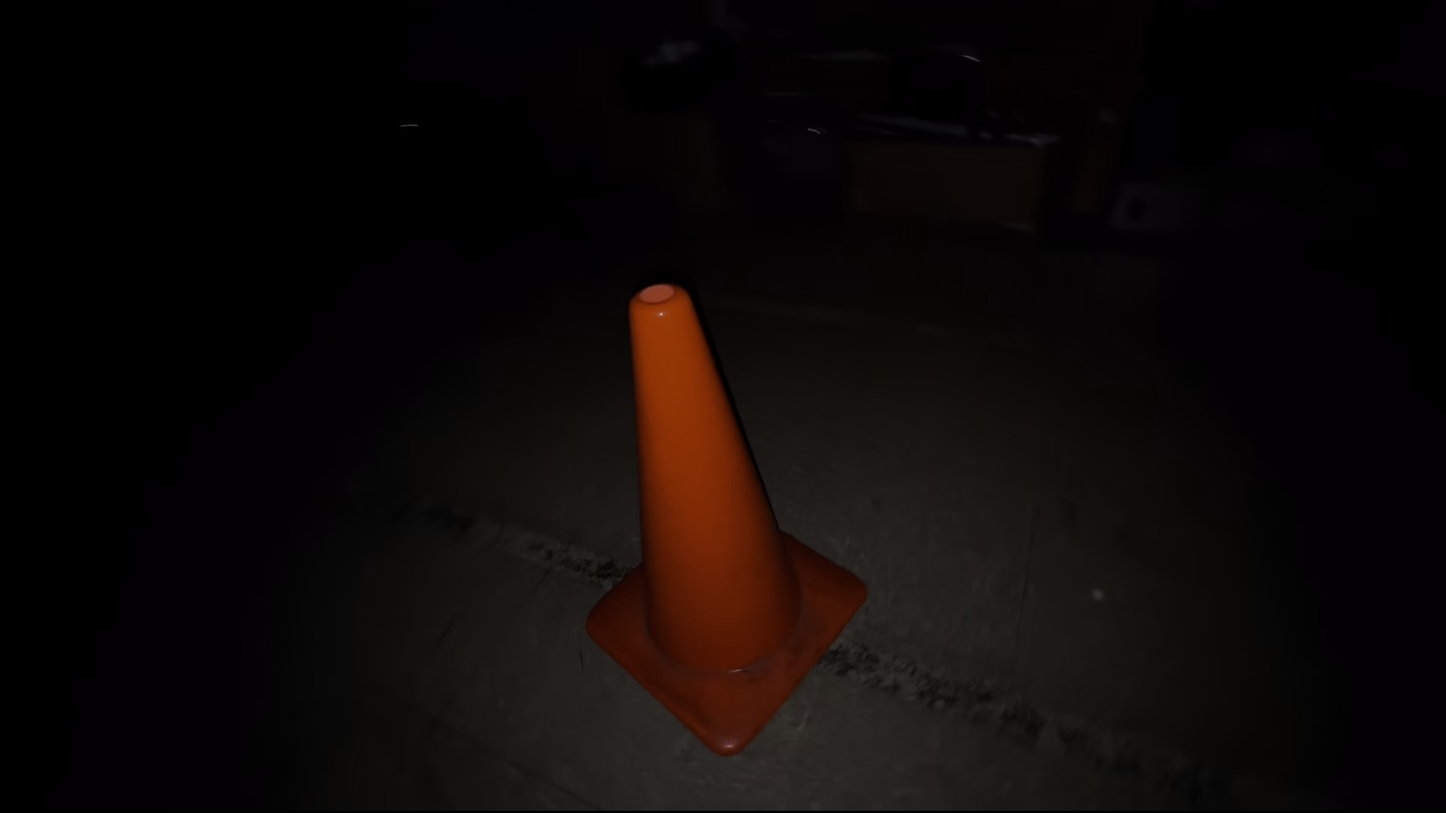traffic_cone: (584, 281, 868, 756)
